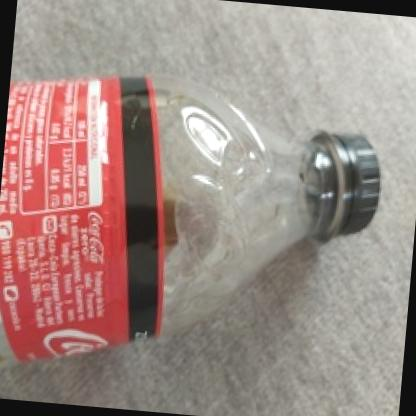plastic_bottles: (0, 65, 394, 402)
